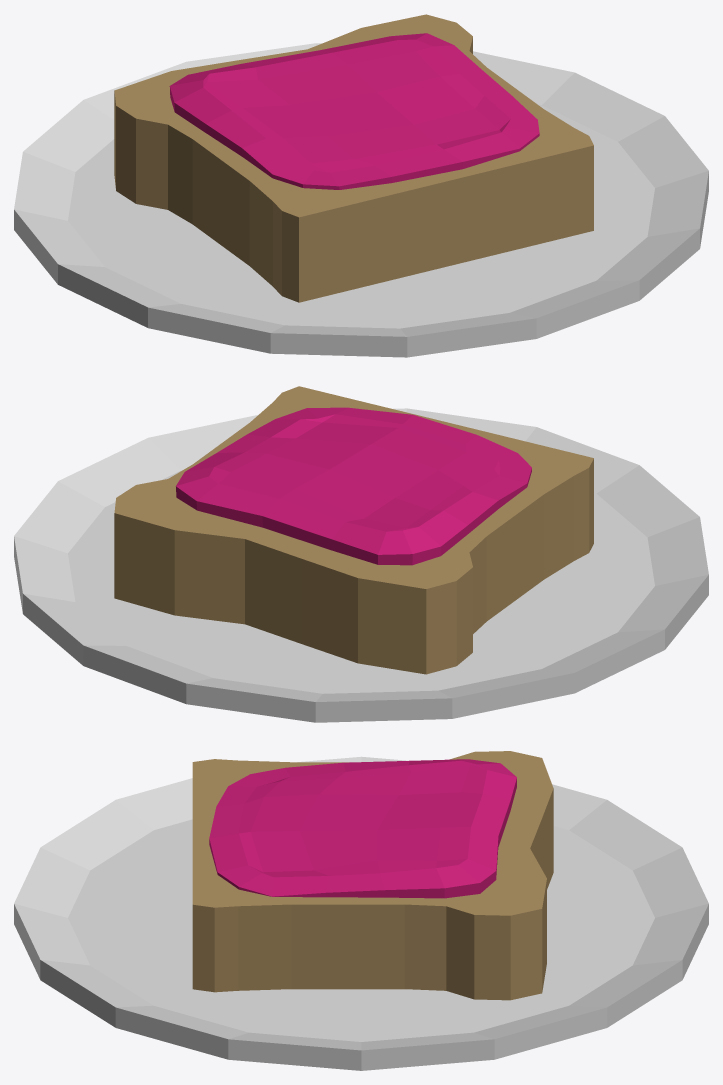
Rendered from toast.fbx.
The picture shows the model from 3 angles, top to bottom: view 1: azimuth 30°, elevation 25°; view 2: azimuth 150°, elevation 25°; view 3: azimuth 270°, elevation 25°; orthographic projection.
Visible parts, largest first — view 1: toast; view 2: toast; view 3: toast.
Boxes of the visible parts, <box> form: toast: <box>14,14,708,357</box>; toast: <box>14,386,708,722</box>; toast: <box>14,751,708,1070</box>.
Bounding box in the file's own units: 51.4 × 10.1 × 51.4.
